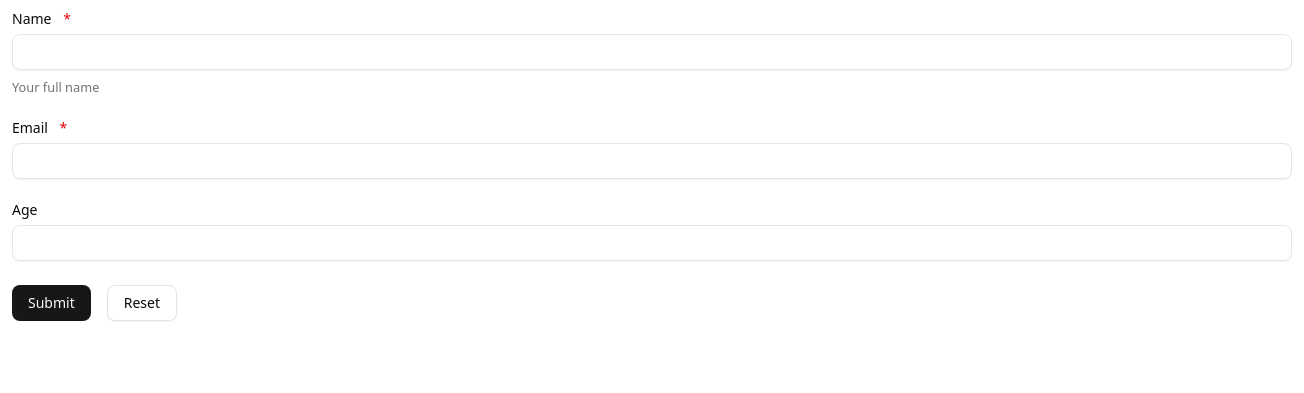
Test: SchemaForm › Form-Level Validation (onSubmit) › should show all validation errors on submit
Click the button "Submit".
click(51, 303)  # box [12, 285, 91, 321]
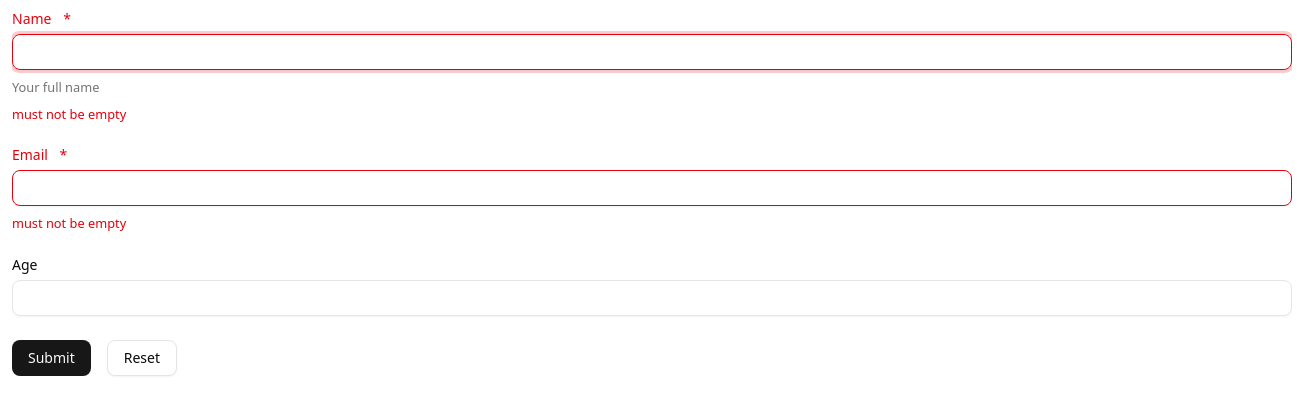
Check: the text "must not be empty" below "Your full name" is shown, box [12, 105, 126, 123]
